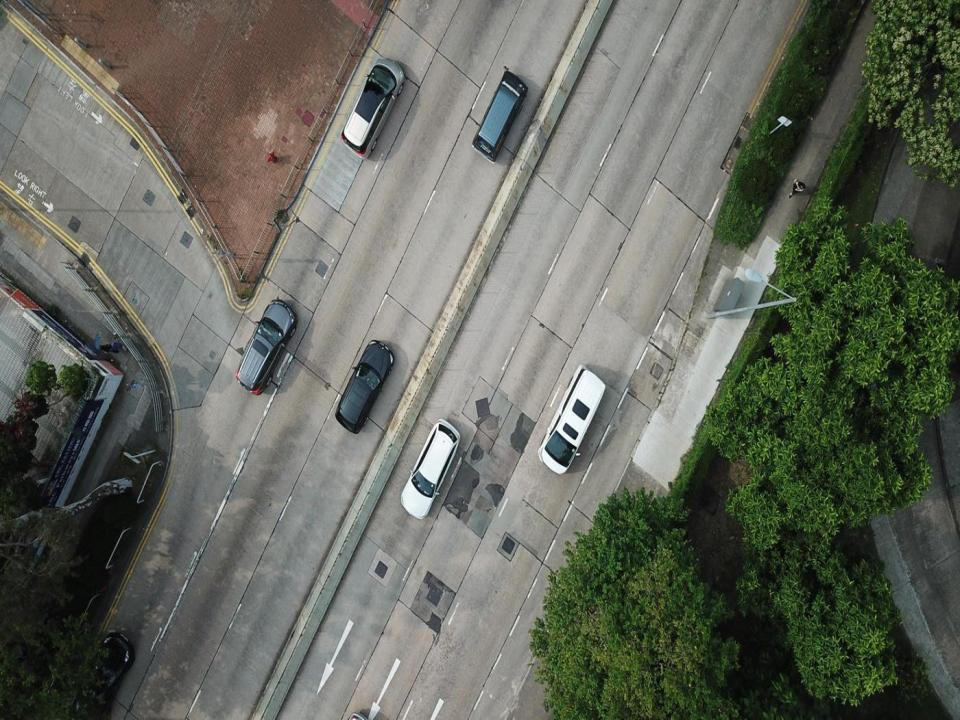van: (539, 364, 605, 473), (340, 59, 405, 159), (64, 632, 136, 719), (235, 300, 296, 396), (401, 419, 460, 518), (335, 338, 394, 436), (471, 70, 529, 164)
